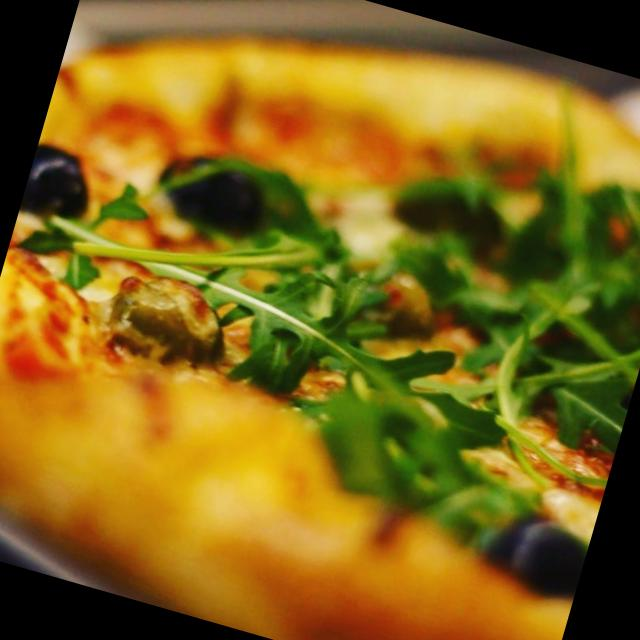black_olives: (376, 171, 503, 257), (155, 148, 273, 239), (483, 504, 590, 602), (19, 140, 101, 227)
pizza: (0, 33, 640, 640)
